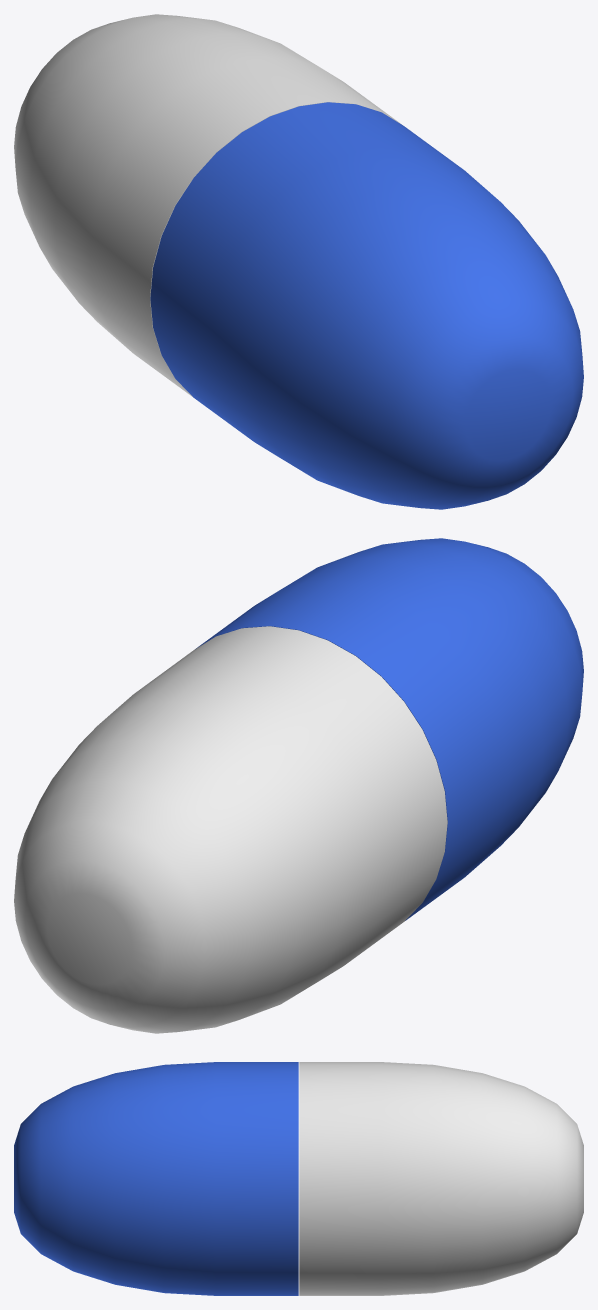
Rendered from Medicine.fbx.
The picture shows the model from 3 angles, top to bottom: view 1: azimuth 30°, elevation 25°; view 2: azimuth 150°, elevation 25°; view 3: azimuth 270°, elevation 25°; orthographic projection. The views are drawn at different scales.
Parts seen in each view (by area): view 1: 円柱.001, 円柱; view 2: 円柱, 円柱.001; view 3: 円柱, 円柱.001.
Part boxes in pixels (<box>): 円柱.001: <box>150,102,583,509</box>; 円柱: <box>14,14,401,396</box>; 円柱: <box>14,626,447,1033</box>; 円柱.001: <box>196,538,583,920</box>; 円柱: <box>299,1062,583,1295</box>; 円柱.001: <box>14,1062,298,1295</box>.
Size of the model in its own units: 0.1896 by 0.1896 by 0.4615.
